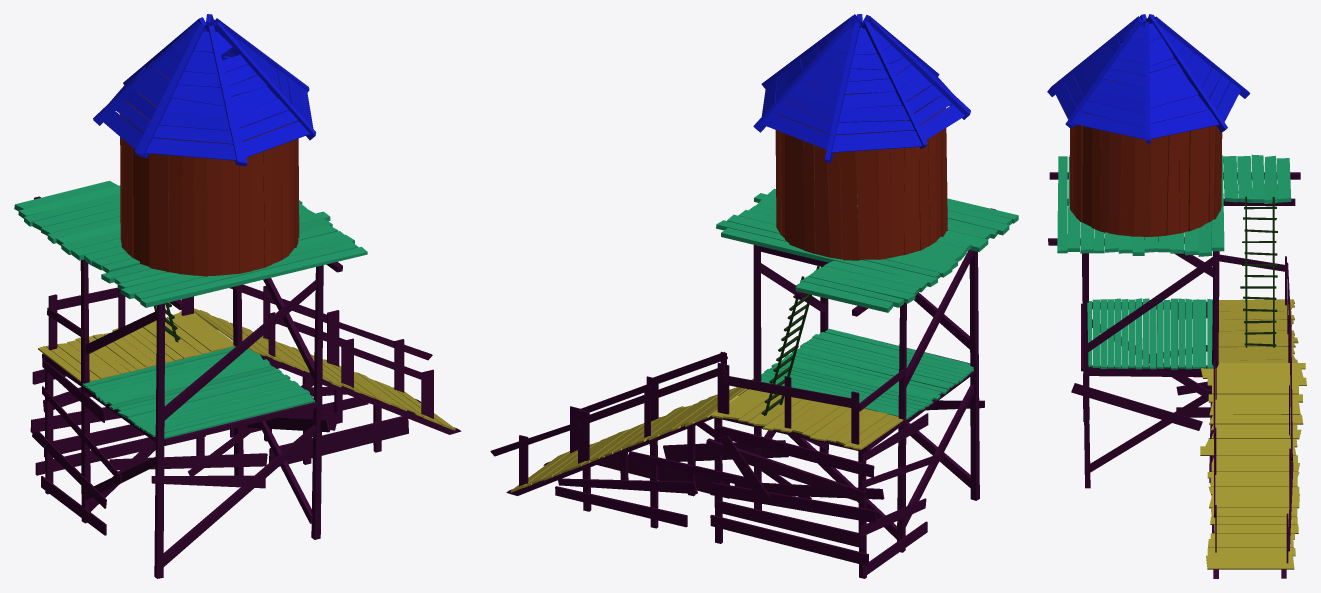
The model's file is water_tower.fbx.
The picture shows the model from 3 angles, left to right: view 1: azimuth 30°, elevation 25°; view 2: azimuth 150°, elevation 25°; view 3: azimuth 270°, elevation 25°; orthographic projection. The views are drawn at different scales.
Visible parts, largest first — view 1: wall_2, floor, wall, roof, floor_2; view 2: wall_2, floor, roof, wall, floor_2, stairs; view 3: floor_2, floor, roof, wall, wall_2, stairs.
Boxes of the visible parts, bbox=[...] form: wall_2: bbox=[30, 196, 461, 578]; floor: bbox=[14, 180, 367, 438]; wall: bbox=[120, 70, 299, 276]; roof: bbox=[93, 14, 316, 166]; floor_2: bbox=[38, 308, 455, 430]; wall_2: bbox=[490, 208, 995, 578]; floor: bbox=[716, 188, 1018, 419]; roof: bbox=[753, 14, 970, 162]; wall: bbox=[775, 63, 947, 260]; floor_2: bbox=[510, 379, 903, 492]; stairs: bbox=[761, 265, 819, 415]; floor_2: bbox=[1200, 299, 1306, 569]; floor: bbox=[1057, 154, 1291, 369]; roof: bbox=[1047, 14, 1249, 143]; wall: bbox=[1069, 59, 1222, 236]; wall_2: bbox=[1048, 172, 1300, 578]; stairs: bbox=[1240, 196, 1277, 347].
Bounding box in the file's own units: 932 × 1080 × 574.
